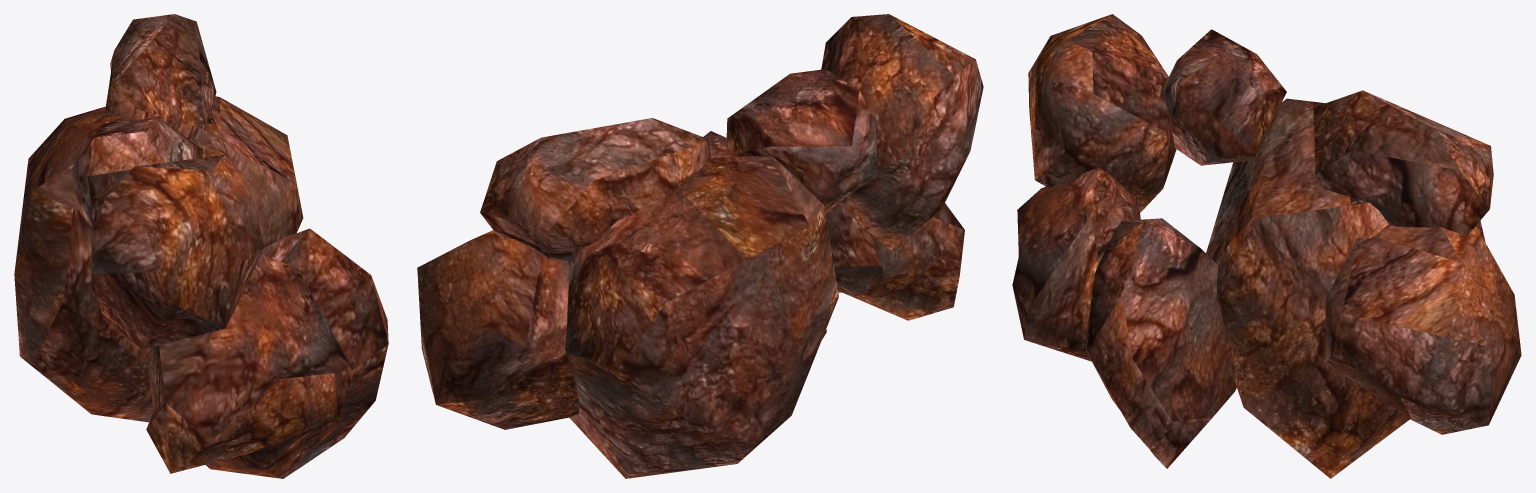
The model's file is cuivre.fbx.
3 views of the same model, side by side, from view 1: azimuth 30°, elevation 25°; view 2: azimuth 150°, elevation 25°; view 3: azimuth 270°, elevation 25° (orthographic). The views are drawn at different scales.
Visible parts, largest first — view 1: Icosphere.005; view 2: Icosphere.005; view 3: Icosphere.005.
Boxes of the visible parts, x1,y1,x2,y2 form: Icosphere.005: [14, 14, 388, 478]; Icosphere.005: [417, 14, 983, 478]; Icosphere.005: [1012, 14, 1521, 478].
Size of the model in its own units: 63.74 by 64.07 by 77.85.
Materials: 1 (1 with a texture image).
